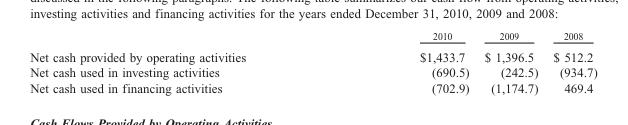table: (29, 29, 596, 94)
table column: (29, 29, 332, 94), (332, 29, 476, 94), (476, 29, 545, 94), (545, 29, 596, 94)
table column header: (29, 29, 596, 45)
table row: (29, 45, 596, 63), (29, 29, 596, 45), (29, 63, 596, 79), (29, 79, 596, 94)
